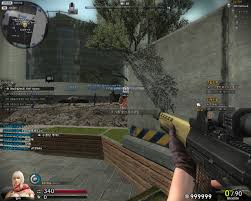gun: (151, 103, 249, 199)
